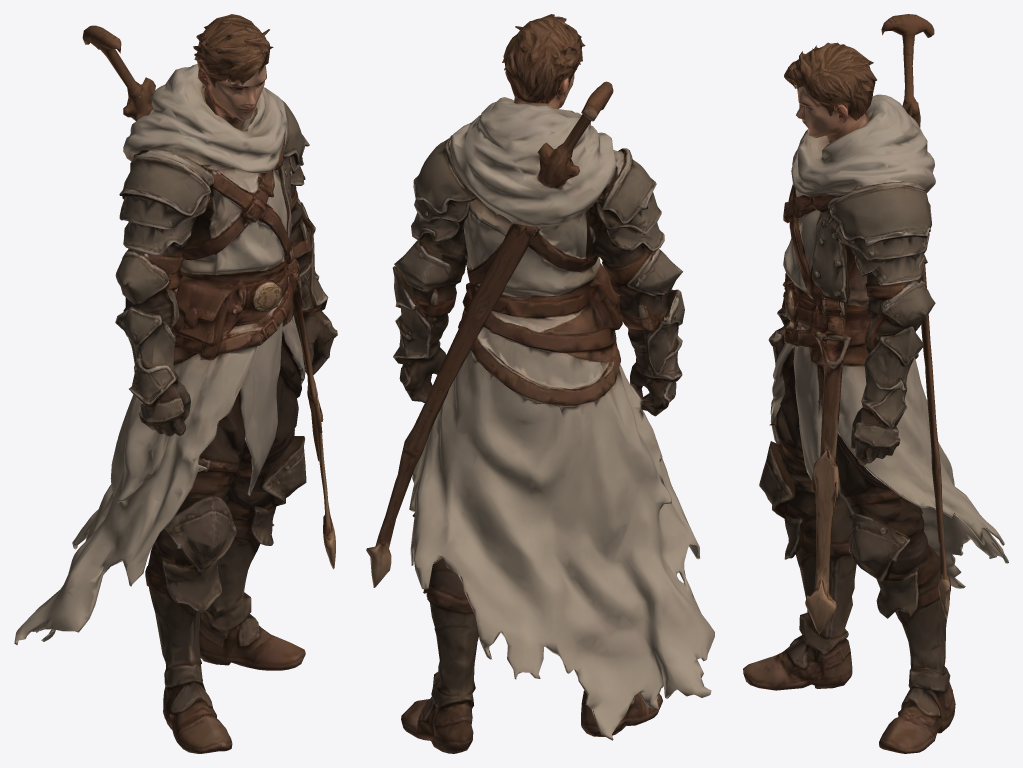
Rendered from fantasy-b.glb.
3 renders of one model, left to right at view 1: azimuth 30°, elevation 25°; view 2: azimuth 150°, elevation 25°; view 3: azimuth 270°, elevation 25°, orthographic. The views are drawn at different scales.
Visible parts, largest first — view 1: tripo_node_c6d69a22-1d53-4851-8a1b-61a99308cbb0; view 2: tripo_node_c6d69a22-1d53-4851-8a1b-61a99308cbb0; view 3: tripo_node_c6d69a22-1d53-4851-8a1b-61a99308cbb0.
Part boxes in pixels (box(x1,y1,x2,y2)): tripo_node_c6d69a22-1d53-4851-8a1b-61a99308cbb0: box(14, 14, 337, 753); tripo_node_c6d69a22-1d53-4851-8a1b-61a99308cbb0: box(366, 14, 714, 753); tripo_node_c6d69a22-1d53-4851-8a1b-61a99308cbb0: box(743, 14, 1008, 753).
Size of the model in its own units: 0.4715 by 0.9998 by 0.3623.
1 material, 1 textured.
